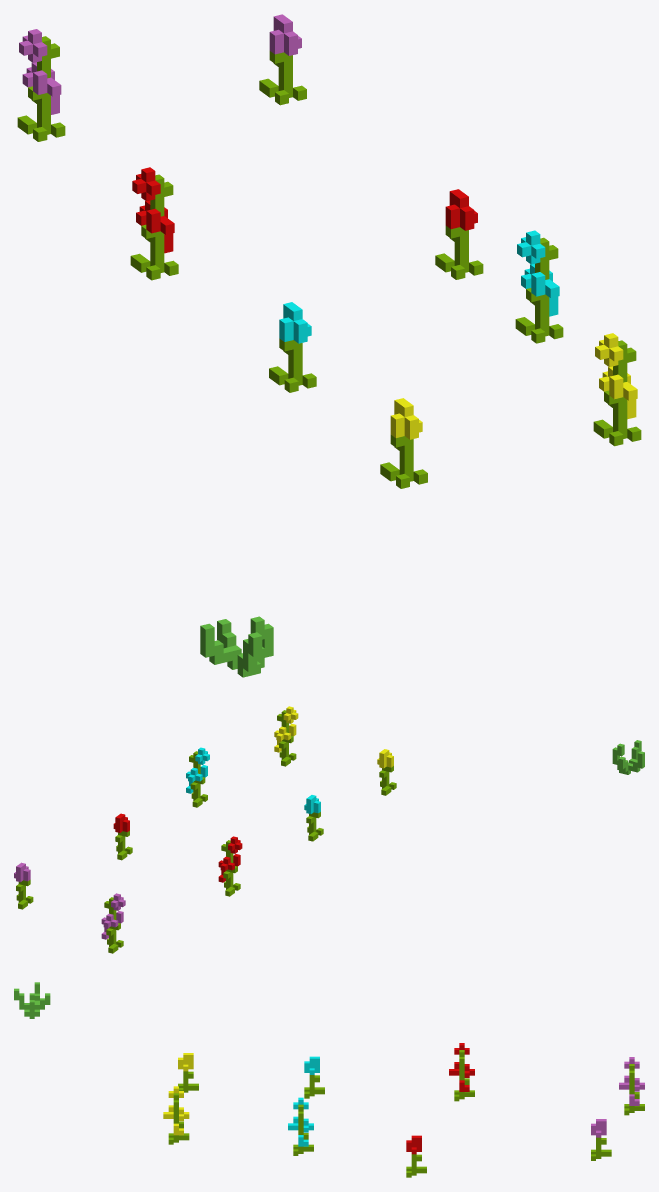
Rendered from grass_and_flowers_glb.glb.
The picture shows the model from 3 angles, top to bottom: view 1: azimuth 30°, elevation 25°; view 2: azimuth 150°, elevation 25°; view 3: azimuth 270°, elevation 25°; orthographic projection. The views are drawn at different scales.
Parts seen in each view (by area): view 1: Flower_Small_Yellow_2, Flower_Small_Red_2, Flower_Small_Sky_Blue_2, Flower_Small_Pink_2, Grass_3, Flower_Small_Red, Flower_Small_Pink, Flower_Small_Sky_Blue, Flower_Small_Yellow; view 2: Flower_Small_Pink_2, Flower_Small_Yellow_2, Flower_Small_Red_2, Flower_Small_Sky_Blue_2, Grass_3, Flower_Small_Yellow, Flower_Small_Red, Flower_Small_Sky_Blue, Flower_Small_Pink; view 3: Flower_Small_Sky_Blue_2, Flower_Small_Yellow_2, Flower_Small_Pink_2, Flower_Small_Red_2, Grass_3, Flower_Small_Red, Flower_Small_Sky_Blue, Flower_Small_Pink, Flower_Small_Yellow.
Boxes of the visible parts, x1,y1,x2,y2 form: Flower_Small_Yellow_2: [593, 333, 641, 446]; Flower_Small_Red_2: [130, 167, 178, 280]; Flower_Small_Sky_Blue_2: [515, 230, 563, 343]; Flower_Small_Pink_2: [17, 29, 65, 141]; Grass_3: [200, 616, 273, 677]; Flower_Small_Red: [435, 189, 483, 279]; Flower_Small_Pink: [259, 14, 306, 105]; Flower_Small_Sky_Blue: [269, 302, 316, 392]; Flower_Small_Yellow: [380, 398, 427, 488]; Flower_Small_Pink_2: [101, 893, 125, 953]; Flower_Small_Yellow_2: [274, 706, 298, 766]; Flower_Small_Red_2: [218, 836, 242, 896]; Flower_Small_Sky_Blue_2: [186, 747, 209, 807]; Grass_3: [612, 740, 644, 774]; Flower_Small_Yellow: [377, 749, 396, 795]; Flower_Small_Red: [113, 813, 132, 860]; Flower_Small_Sky_Blue: [304, 795, 323, 841]; Flower_Small_Pink: [14, 862, 33, 909]; Flower_Small_Sky_Blue_2: [288, 1097, 313, 1155]; Flower_Small_Yellow_2: [163, 1086, 189, 1144]; Flower_Small_Pink_2: [619, 1057, 644, 1115]; Flower_Small_Red_2: [449, 1043, 474, 1101]; Grass_3: [14, 982, 50, 1018]; Flower_Small_Red: [406, 1135, 426, 1177]; Flower_Small_Sky_Blue: [304, 1056, 324, 1098]; Flower_Small_Pink: [591, 1119, 611, 1160]; Flower_Small_Yellow: [178, 1053, 198, 1092].
Size of the model in its own units: 7.31 by 1.39 by 12.16.
Materials: 9 (9 with a texture image).
